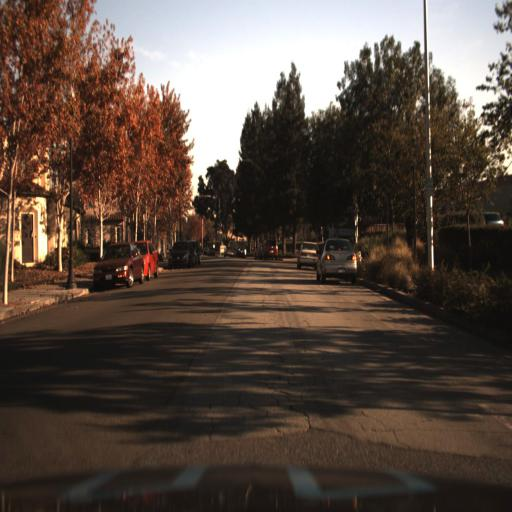car: (91, 242, 144, 290), (315, 238, 362, 278), (139, 238, 162, 277), (165, 237, 193, 269), (295, 240, 322, 270), (187, 234, 201, 270)
